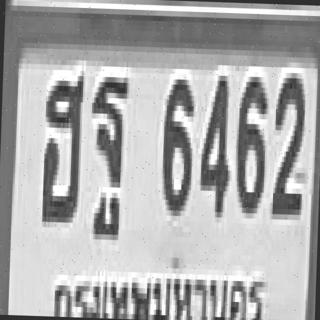A16: (86, 68, 130, 240)
A44: (40, 67, 85, 228)
N02: (272, 74, 305, 216)
N04: (198, 74, 230, 217)
N06: (160, 76, 194, 214), (236, 74, 267, 212)
